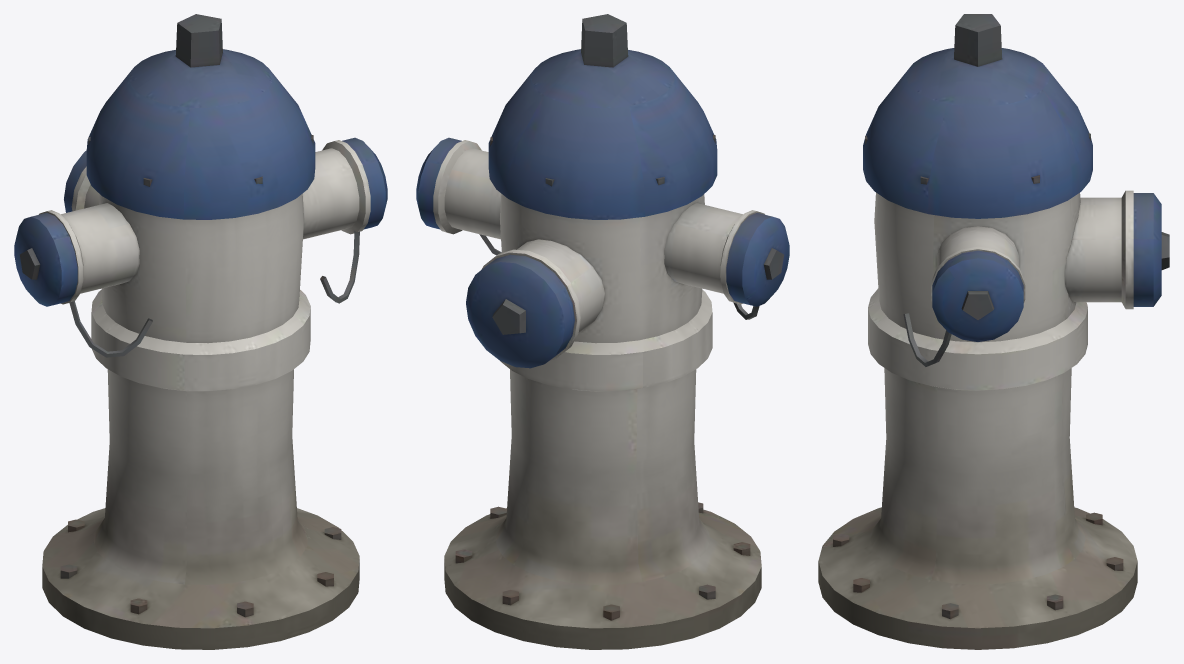
File: hydrant-v2.glb
The picture shows the model from 3 angles, left to right: view 1: azimuth 30°, elevation 25°; view 2: azimuth 150°, elevation 25°; view 3: azimuth 270°, elevation 25°; orthographic projection.
Visible parts, largest first — view 1: hydrant; view 2: hydrant; view 3: hydrant.
Boxes of the visible parts, bbox=[...] form: hydrant: bbox=[14, 14, 387, 649]; hydrant: bbox=[416, 14, 789, 649]; hydrant: bbox=[818, 14, 1169, 649].
Size of the model in its own units: 0.504 by 0.78 by 0.44.
Materials: 1 (1 with a texture image).
